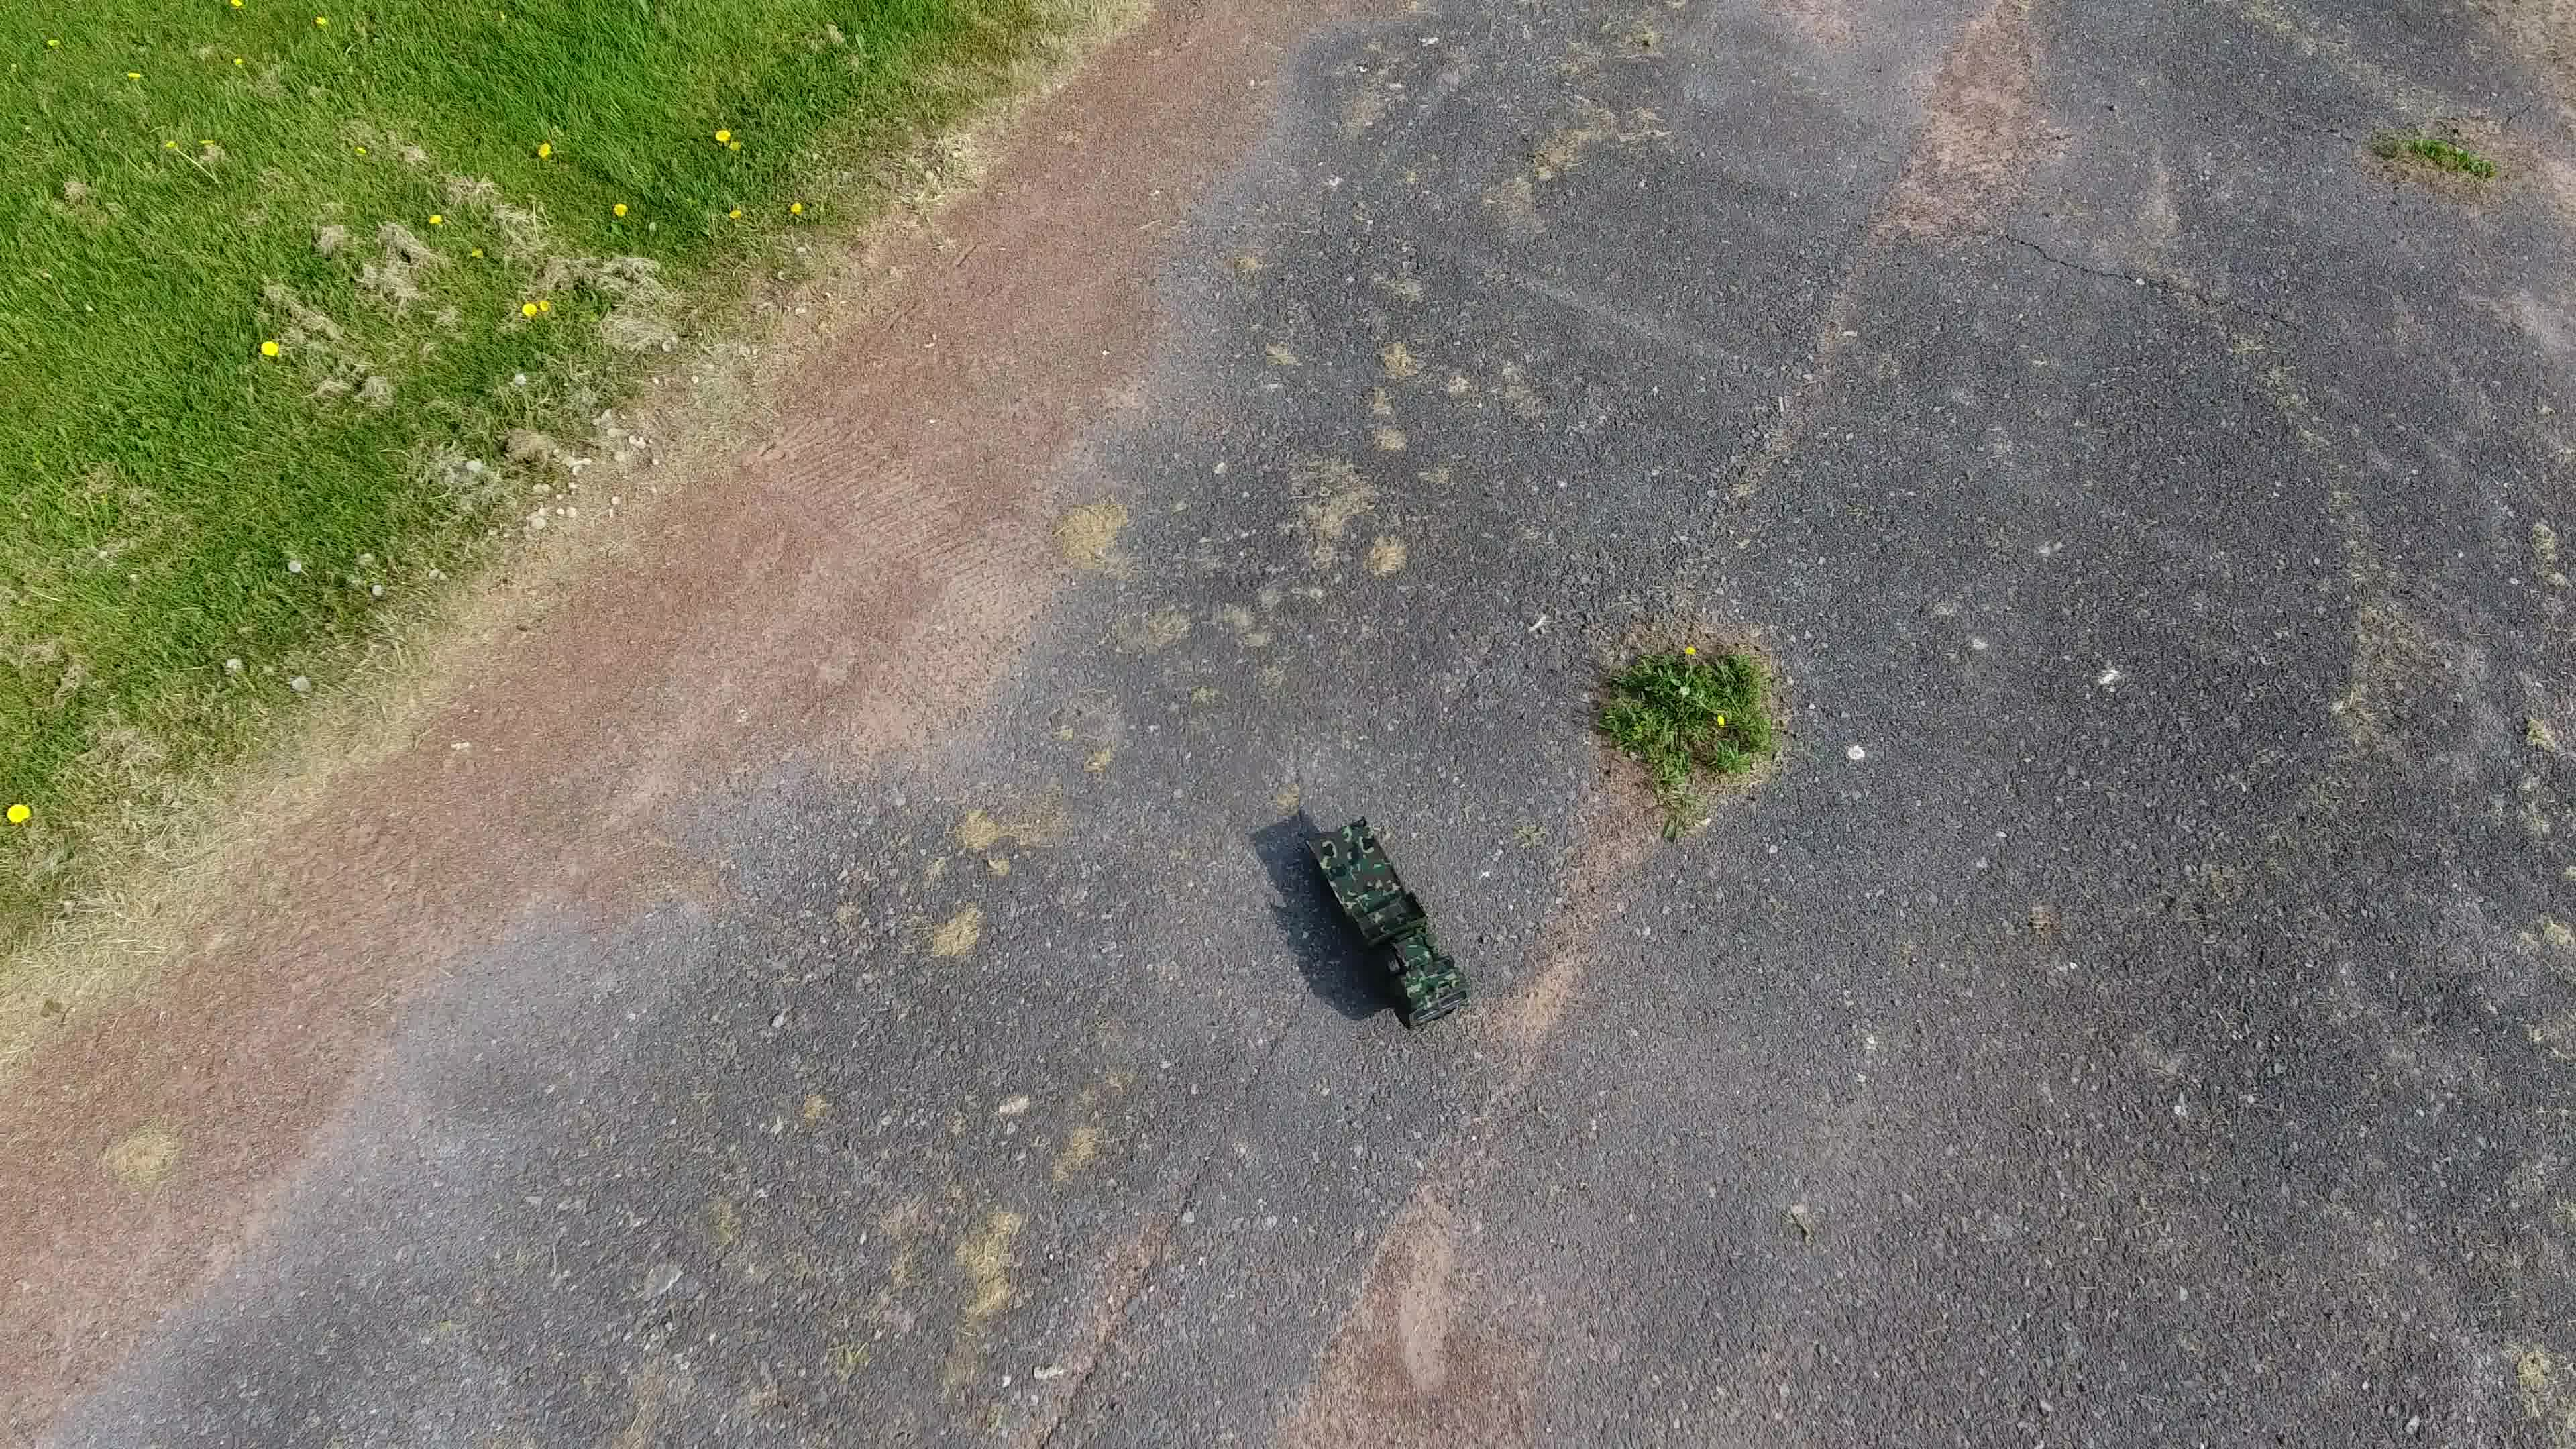transporter9_camo: (1300, 814, 1477, 1035)
